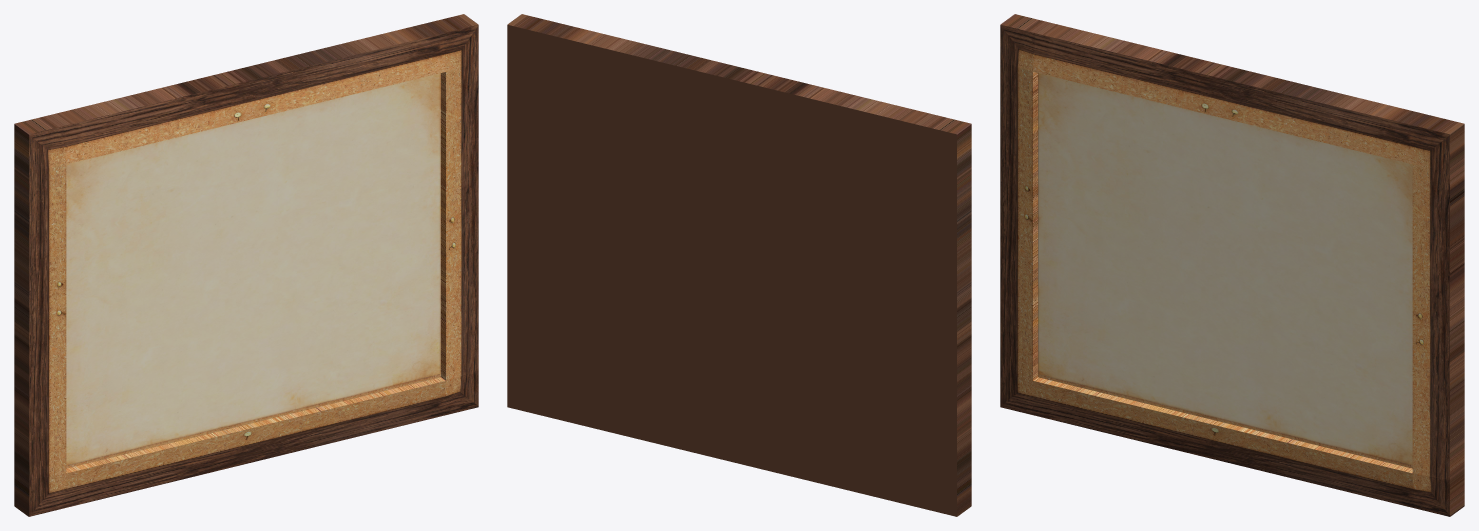
The model's file is panel_result.glb.
3 renders of one model, left to right at view 1: azimuth 30°, elevation 25°; view 2: azimuth 150°, elevation 25°; view 3: azimuth 330°, elevation 25°, orthographic.
Parts seen in each view (by area): view 1: panel_result; view 2: panel_result; view 3: panel_result.
Part boxes in pixels (x1,y1,x2,y2): panel_result: (14,14,478,516); panel_result: (507,14,971,516); panel_result: (1000,14,1464,516).
Bounding box in the file's own units: 0.64 × 0.52 × 0.042.
1 material, 1 textured.
